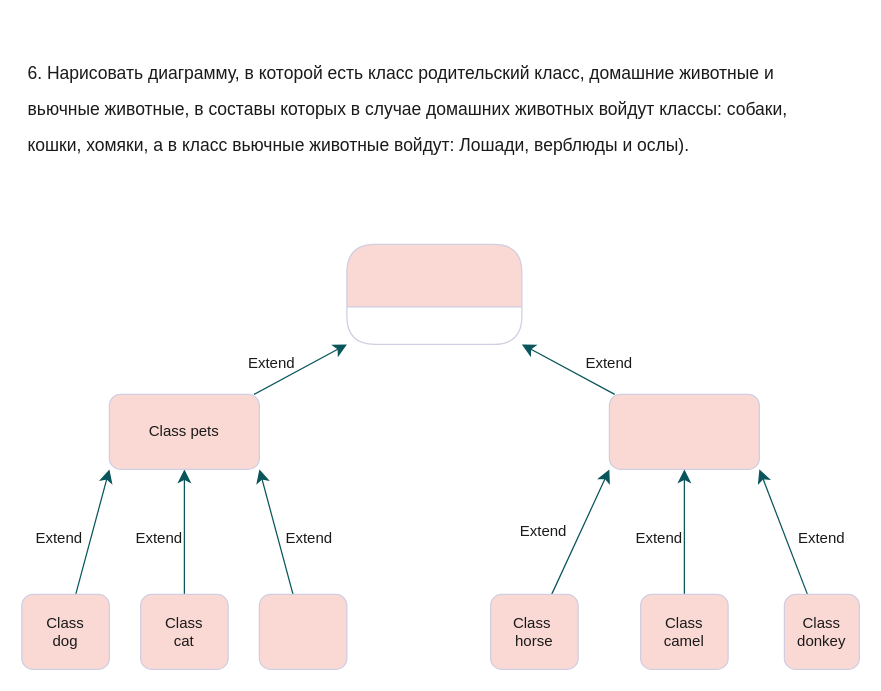
The diagram is 881 pixels wide and 691 high, and some of its shapes have lost their labels. The shapes that lost their labels are listed below. From the top down, each one's centre as x and y in pixels, then its label:
At point 434,293: "Class human_friends".
At point 683,431: "Class pack_animals".
At point 302,631: "Class hamster".
